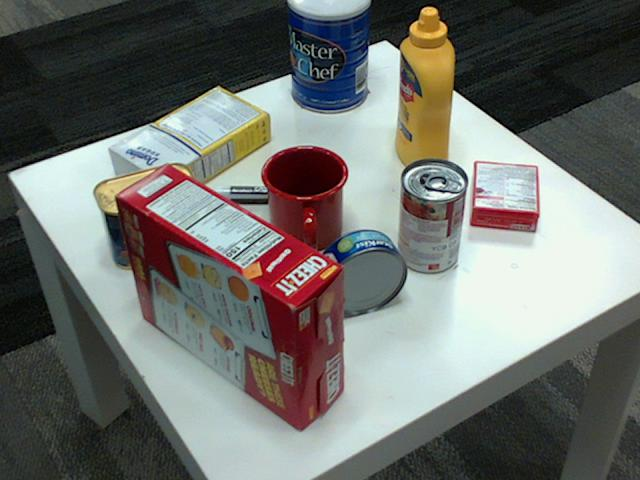cracker_box: (113, 163, 343, 427)
gelatin_box: (471, 161, 540, 230)
large_marker: (213, 186, 319, 205)
master_chef_can: (286, 0, 368, 112)
mug: (261, 142, 350, 251)
mustard_bottle: (394, 8, 453, 175)
potted_meat_can: (94, 162, 201, 270)
sugar_box: (109, 85, 271, 203)
tomato_soup_can: (397, 158, 466, 272)
tuna_fish_can: (317, 229, 407, 313)
